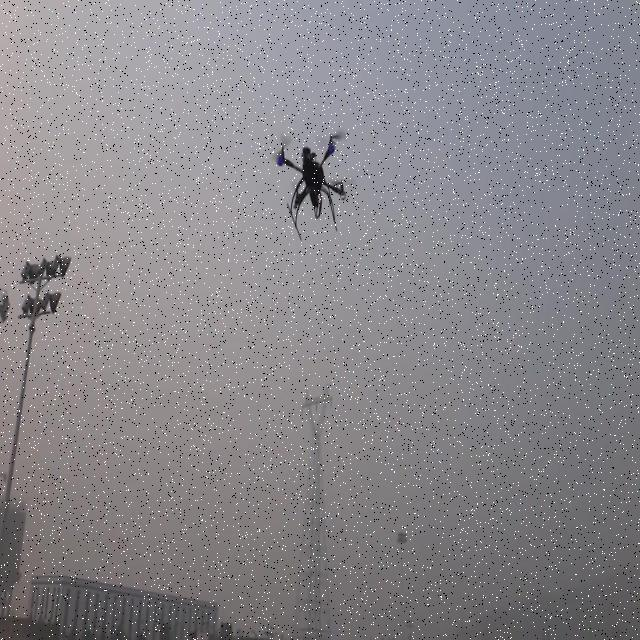UAV: (272, 130, 348, 242)
